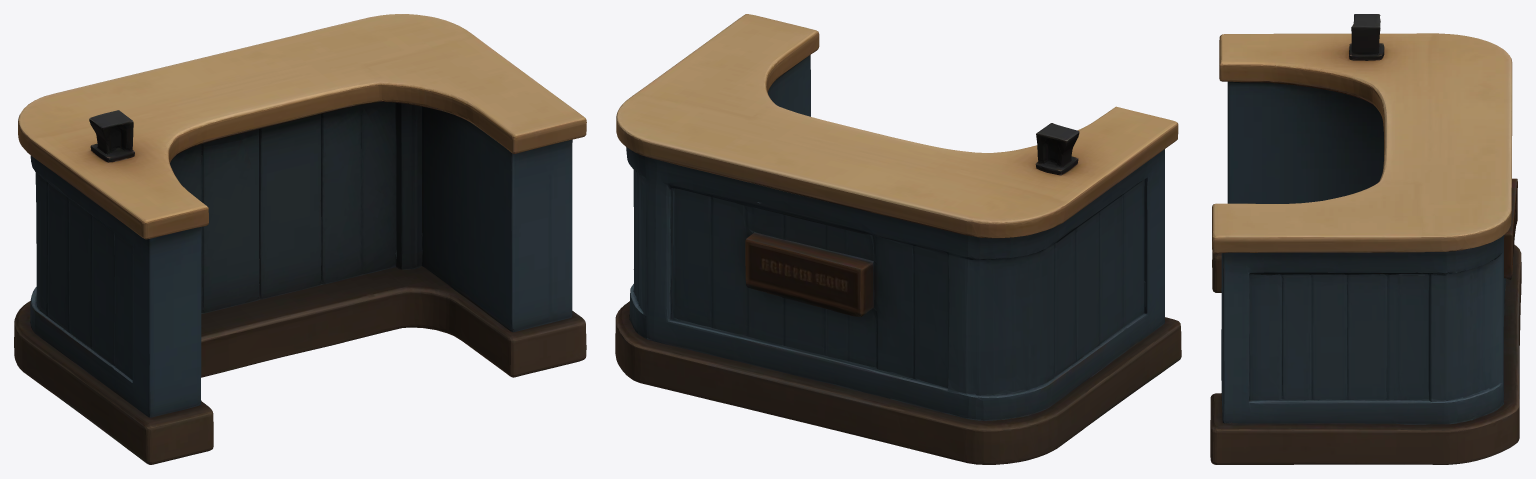
Rendered from prop_desk_reception.glb.
The picture shows the model from 3 angles, left to right: view 1: azimuth 30°, elevation 25°; view 2: azimuth 150°, elevation 25°; view 3: azimuth 270°, elevation 25°; orthographic projection. The views are drawn at different scales.
Visible parts, largest first — view 1: geometry_0; view 2: geometry_0; view 3: geometry_0.
Part boxes in pixels (box(x1,y1,x2,y2)): geometry_0: box(14, 14, 586, 464); geometry_0: box(615, 14, 1181, 464); geometry_0: box(1210, 14, 1521, 464).
Size of the model in its own units: 1 by 0.6032 by 0.6456.
Materials: 1 (1 with a texture image).
